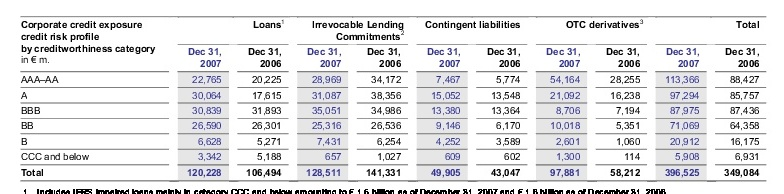table: (0, 0, 784, 194)
